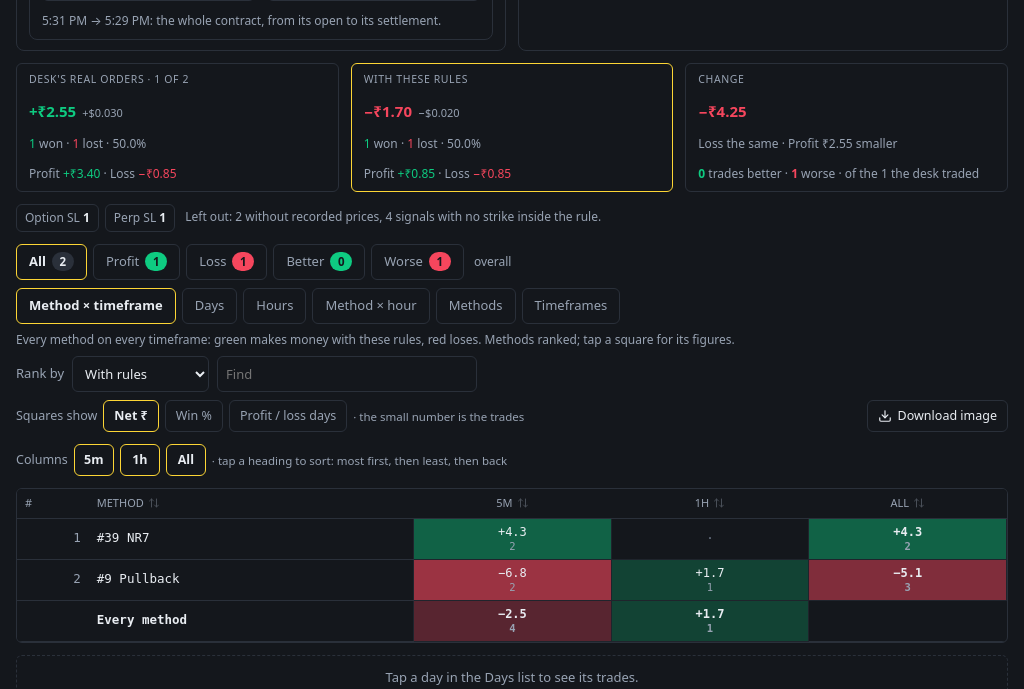
Option history › [critical] every signal, the last seven expiry days as the desk runs; the real orders beside them
(page scrolled)
Expected: the text "With these rules" is shown, [364,72,468,86]
Expected: the text "Desk's real orders · 1 of 2" is shown, [29,72,189,86]
Click the tab "Days" at (209, 306), box [182,288,237,324]
(page scrolled)
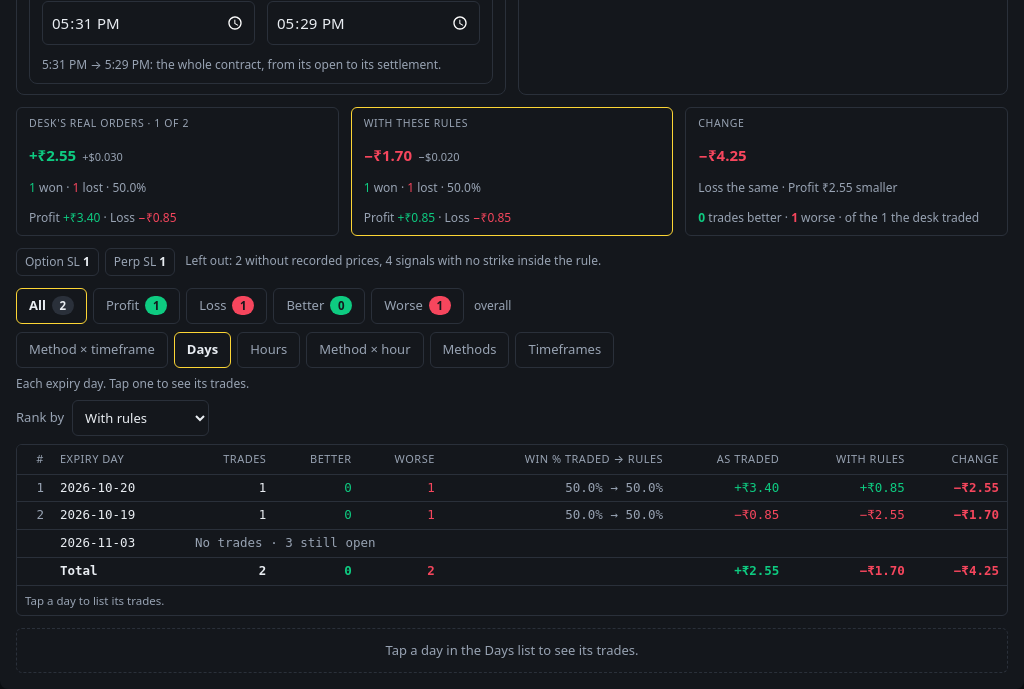
Click the row "1 2026-10-20 1 0 1 50.0% → 50.0% +₹3.40 +₹0.85 −₹2.55" at (512, 488), box [17,474,1007,502]
(page scrolled)
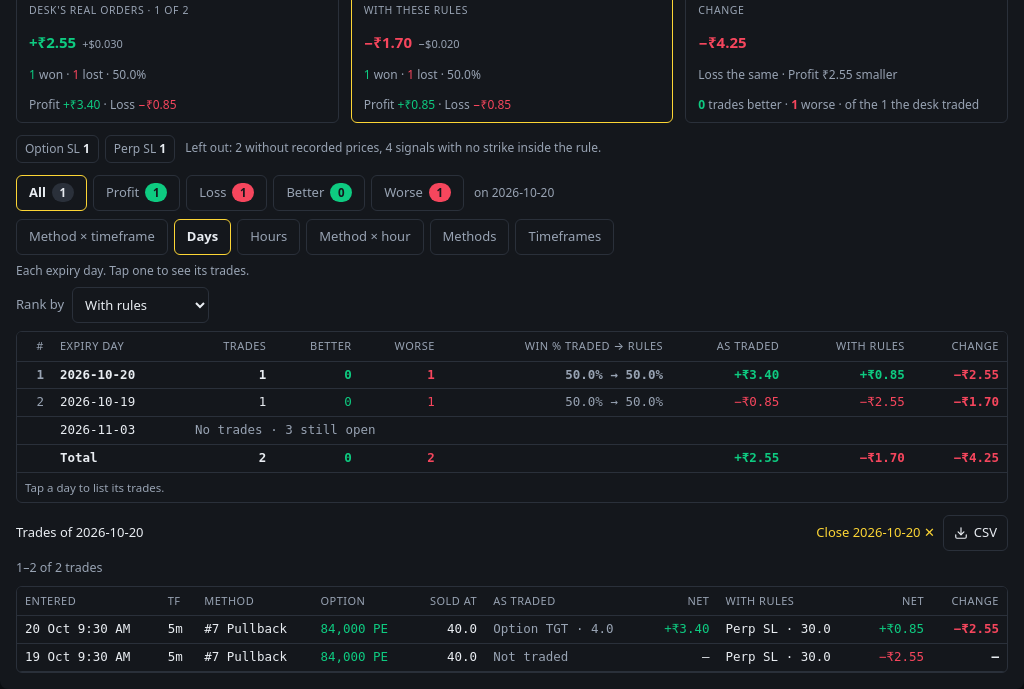
Result: the row that starts with "20 Oct 9:30 AM" shows "Perp SL · 30" at [17,616,1007,643]
Result: the row that starts with "19 Oct 9:30 AM" shows "Not traded" at [493,649,568,664]
